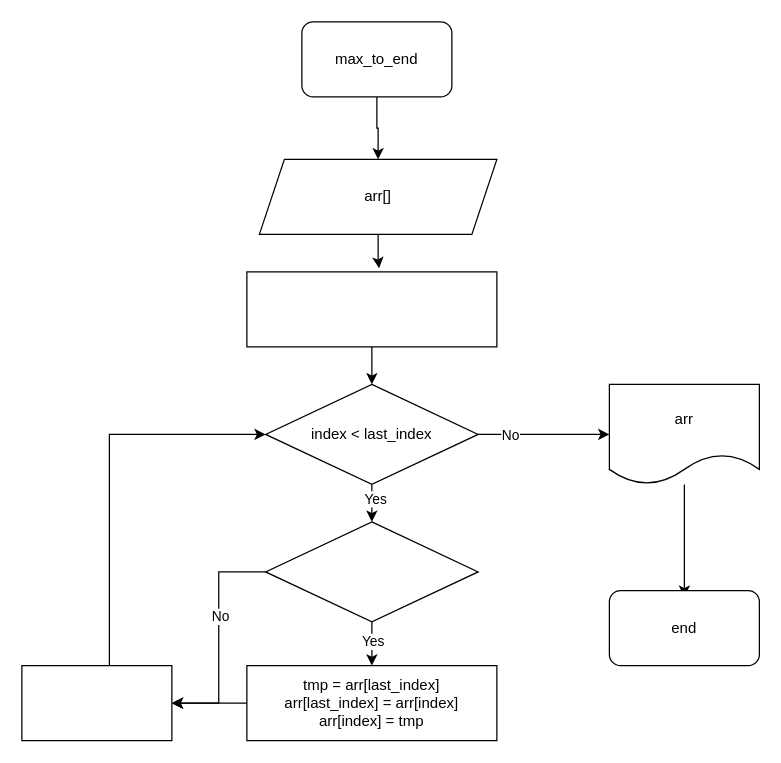
This 781x763 diagram has some shape labels left out. The shapes that lost their labels are listed below. From the top down, each one's centre as x and y in pixels, then its label:
At (371,309): "last_index = arr.length-1 index = 0".
At (371,571): "arr[index] > arr[last_index]".
At (96,702): "index = index +1".
